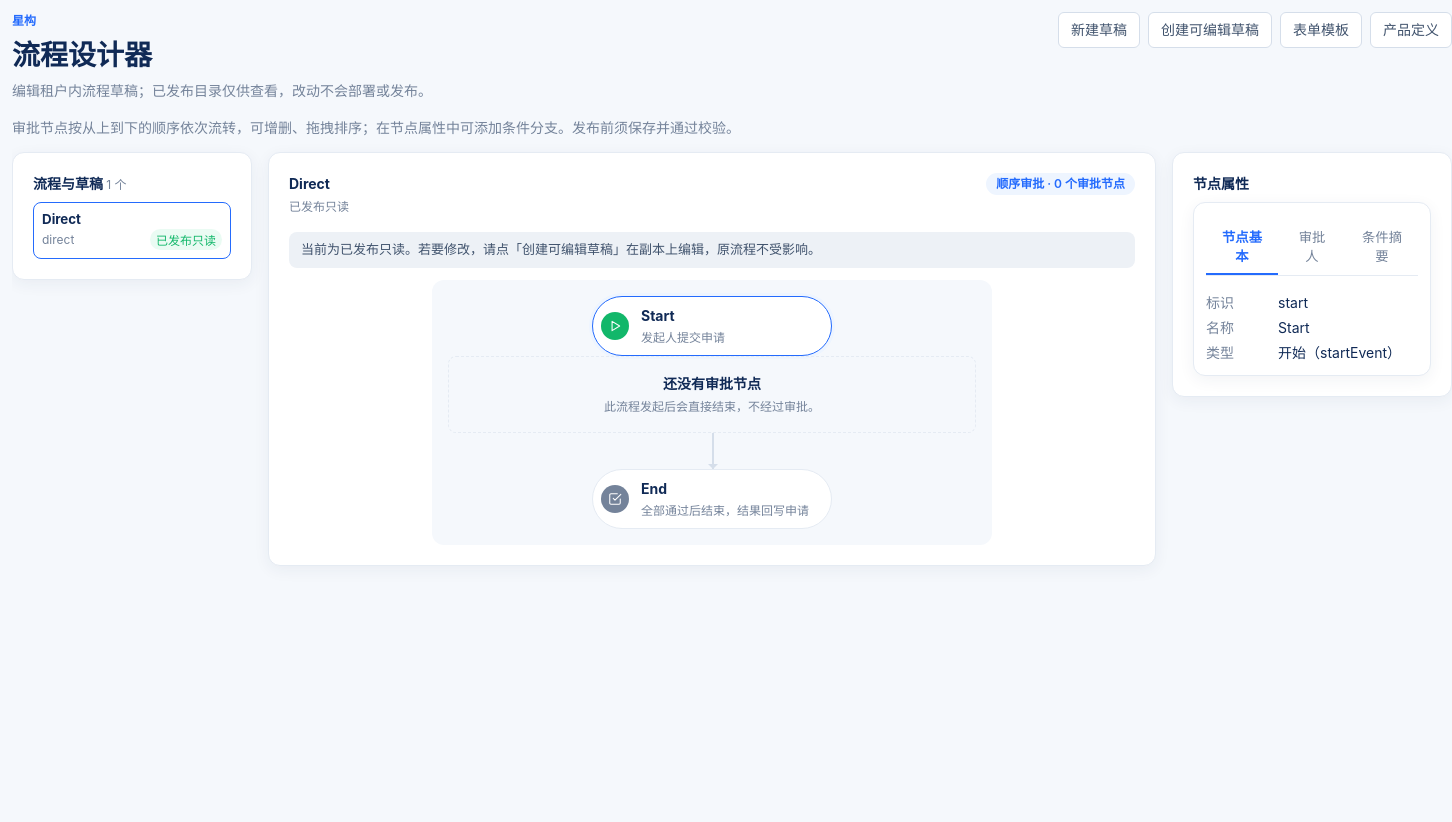
it: process viewer › explains a read-only process and one without approval steps (N4)
The image size is (1452, 822).
Expected: the text with test id "draft-state" shows "已发布只读", [301, 241, 821, 257]
Expected: the list item with test id "flow-steps-empty" shows "直接结束", [604, 398, 820, 414]
Click the button with test id "process-edit-copy". click: (1210, 30)
box: [1148, 12, 1272, 48]
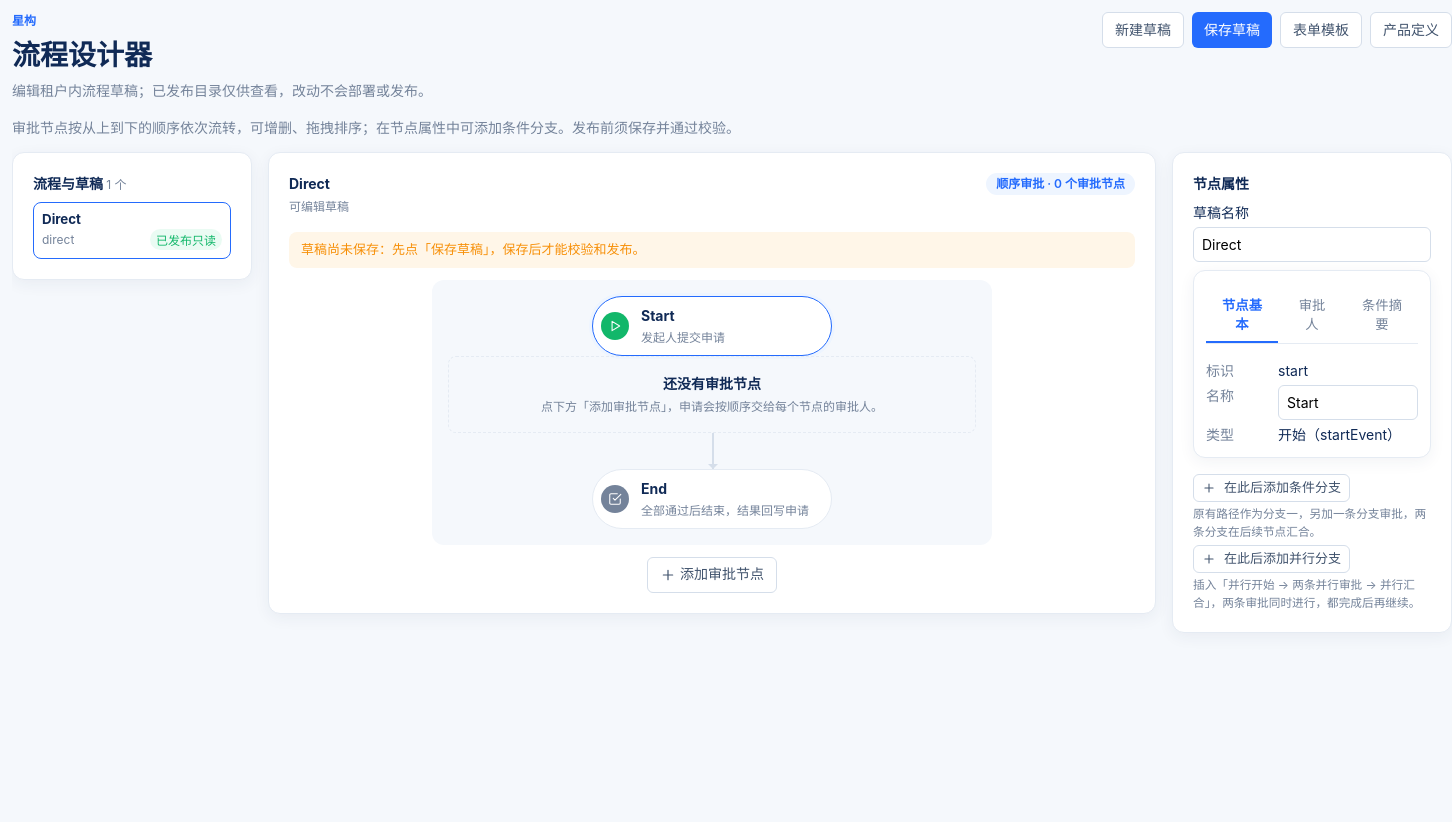
Now the list item with test id "flow-steps-empty" shows "添加审批节点", box [541, 398, 883, 414]
Click the button with test id "add-step". click: (712, 574)
box: [647, 556, 777, 592]
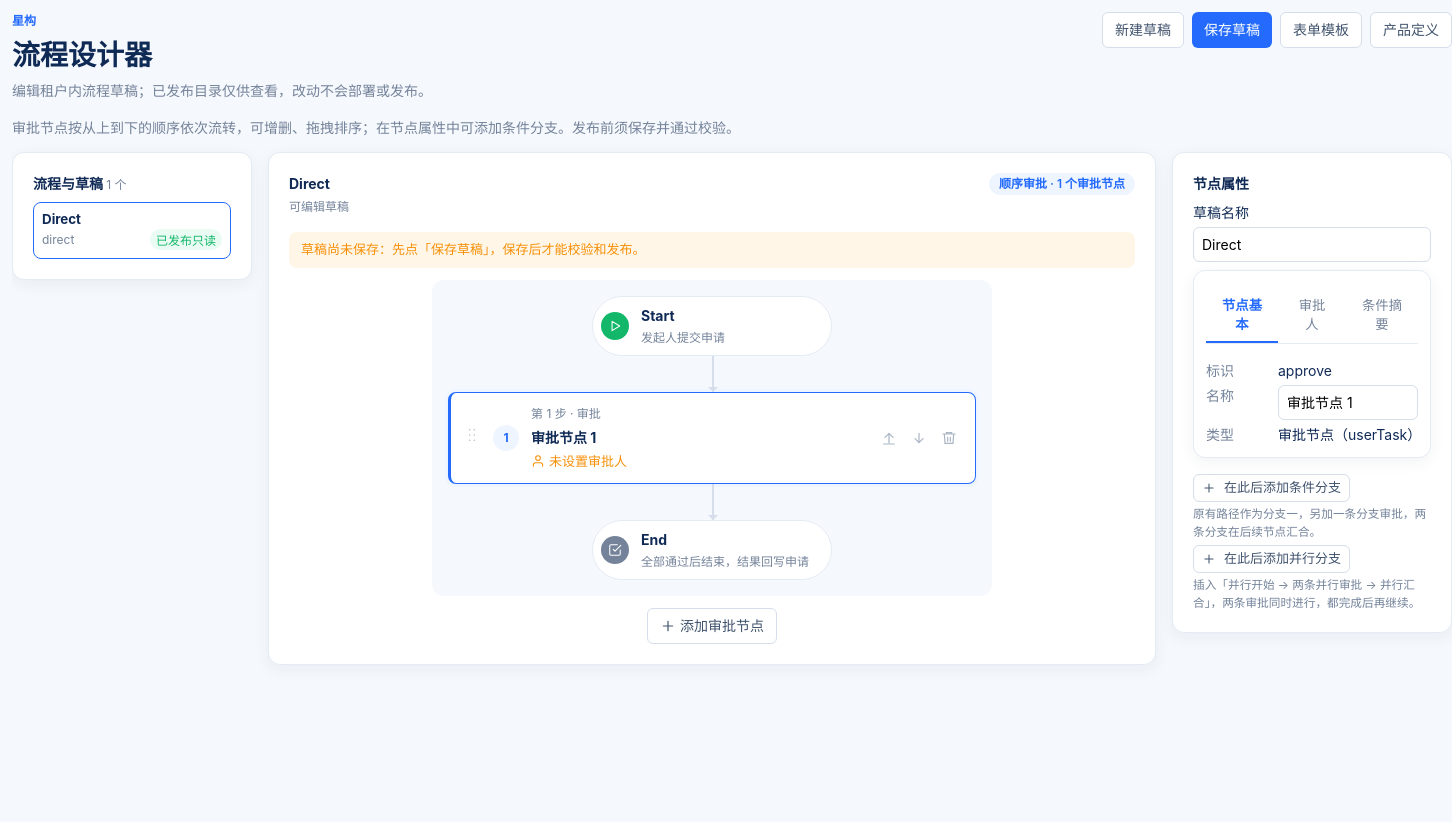
Now the number of buttons with class "step" is 1, box [448, 392, 976, 484]
